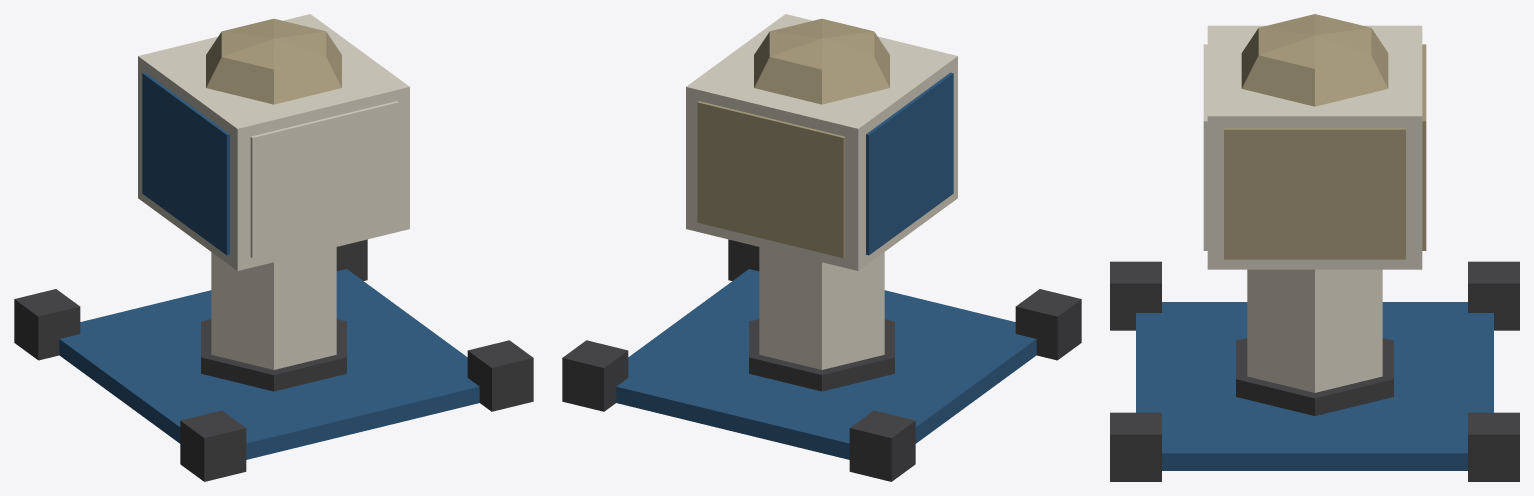
Rendered from rcs4_mount.obj.
The picture shows the model from 3 angles, left to right: view 1: azimuth 30°, elevation 25°; view 2: azimuth 150°, elevation 25°; view 3: azimuth 270°, elevation 25°; orthographic projection. The views are drawn at different scales.
Parts seen in each view (by area): view 1: rcs4_mount; view 2: rcs4_mount; view 3: rcs4_mount.
Boxes of the visible parts, x1,y1,x2,y2 form: rcs4_mount: (14, 14, 533, 481); rcs4_mount: (562, 14, 1081, 481); rcs4_mount: (1110, 14, 1519, 481).
Bounding box in the file's own units: 1.26 × 1.22 × 1.26.
